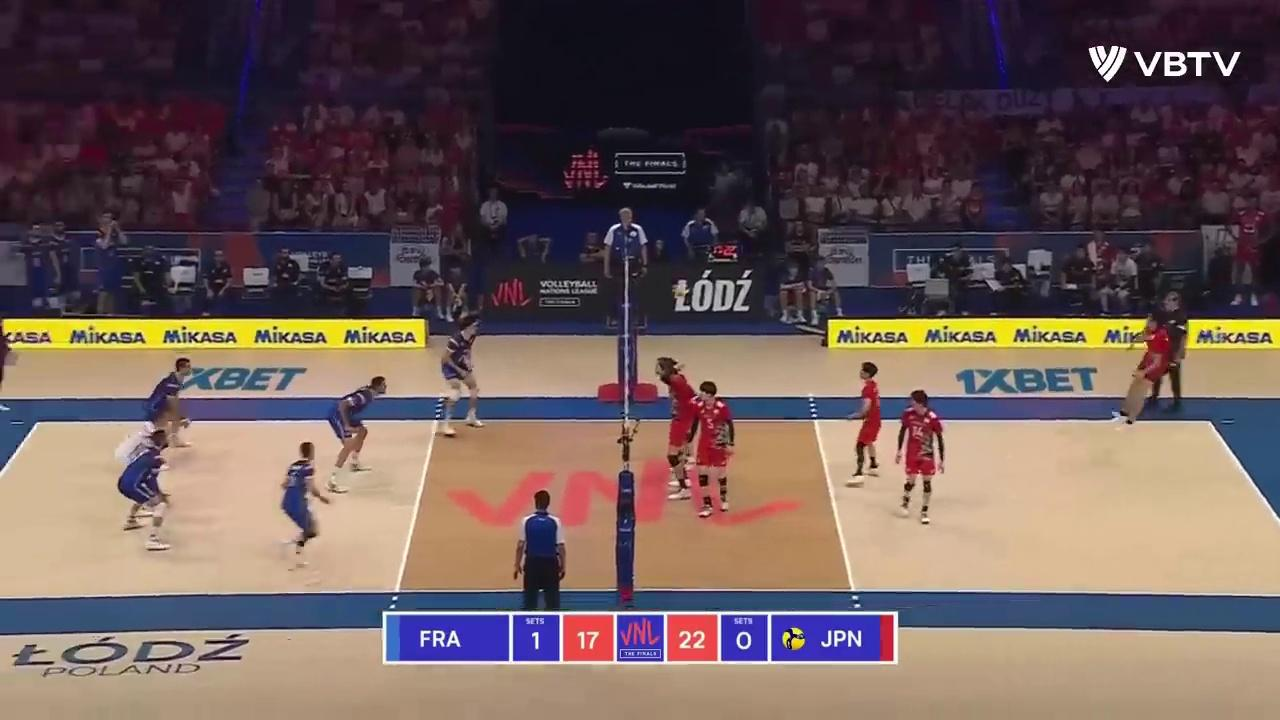ball: (672, 286, 685, 298)
